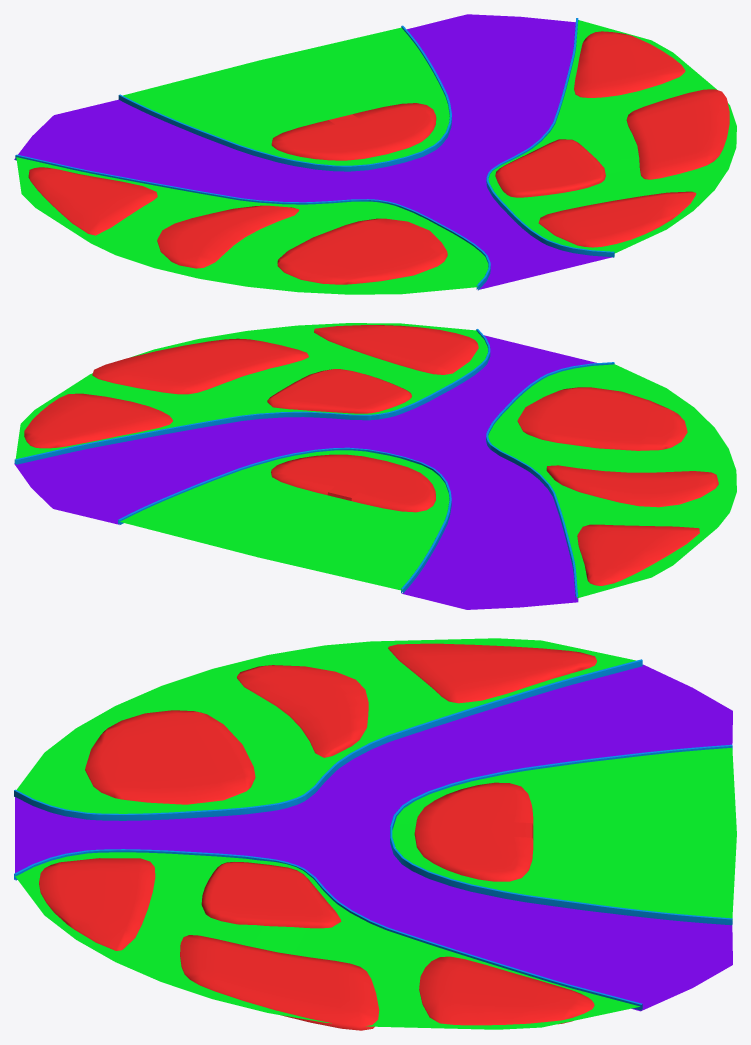
File: SM_Hall_Auditorium_Floor.fbx
3 renders of one model, top to bottom at view 1: azimuth 30°, elevation 25°; view 2: azimuth 150°, elevation 25°; view 3: azimuth 270°, elevation 25°, orthographic. The views are drawn at different scales.
Visible parts, largest first — view 1: SM_Hall_Auditorium_Floor; view 2: SM_Hall_Auditorium_Floor; view 3: SM_Hall_Auditorium_Floor.
Boxes of the visible parts, bbox=[...] form: SM_Hall_Auditorium_Floor: bbox=[14, 14, 736, 294]; SM_Hall_Auditorium_Floor: bbox=[14, 323, 736, 609]; SM_Hall_Auditorium_Floor: bbox=[14, 638, 736, 1030].
Size of the model in its own units: 5716 by 60.39 by 4461.
